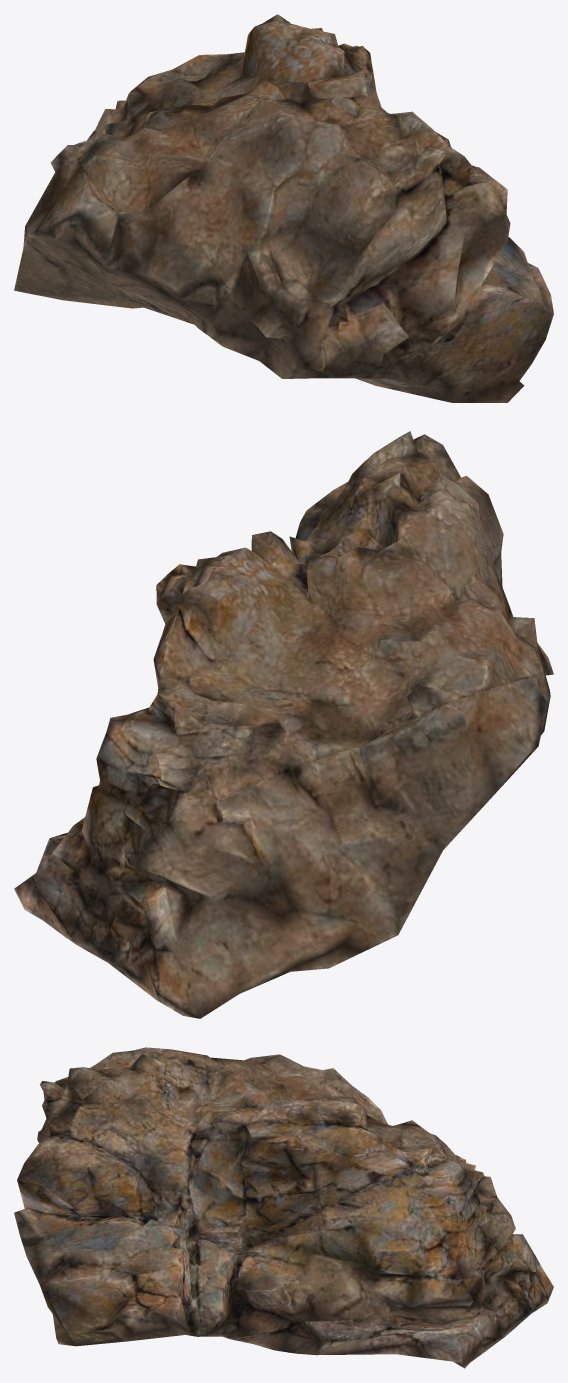
Rendered from boulder_01.glb.
3 views of the same model, one above another, from view 1: azimuth 30°, elevation 25°; view 2: azimuth 150°, elevation 25°; view 3: azimuth 270°, elevation 25° (orthographic). The views are drawn at different scales.
Visible parts, largest first — view 1: boulder_01; view 2: boulder_01; view 3: boulder_01.
Boxes of the visible parts, left/top/right/bottom form: boulder_01: left=14, top=14, right=553, bottom=402; boulder_01: left=14, top=431, right=553, bottom=1018; boulder_01: left=14, top=1047, right=553, bottom=1368.
Size of the model in its own units: 1.27 by 0.9948 by 1.82.
1 material, 1 textured.
